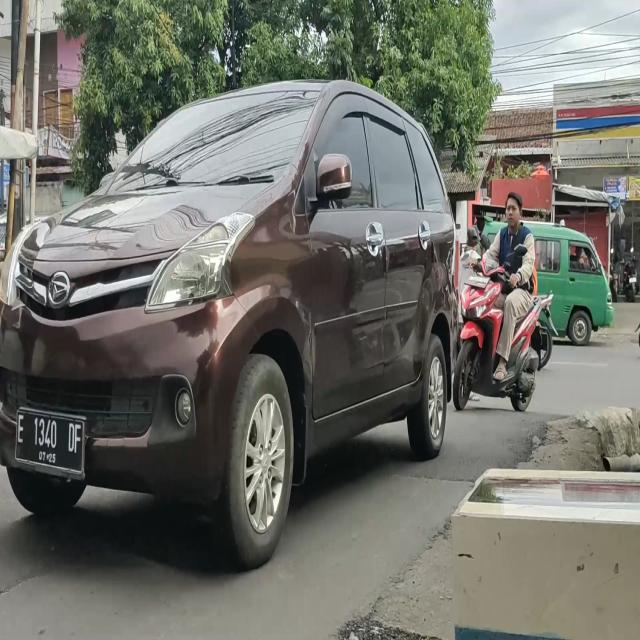no-helmet: (505, 196, 522, 228)
